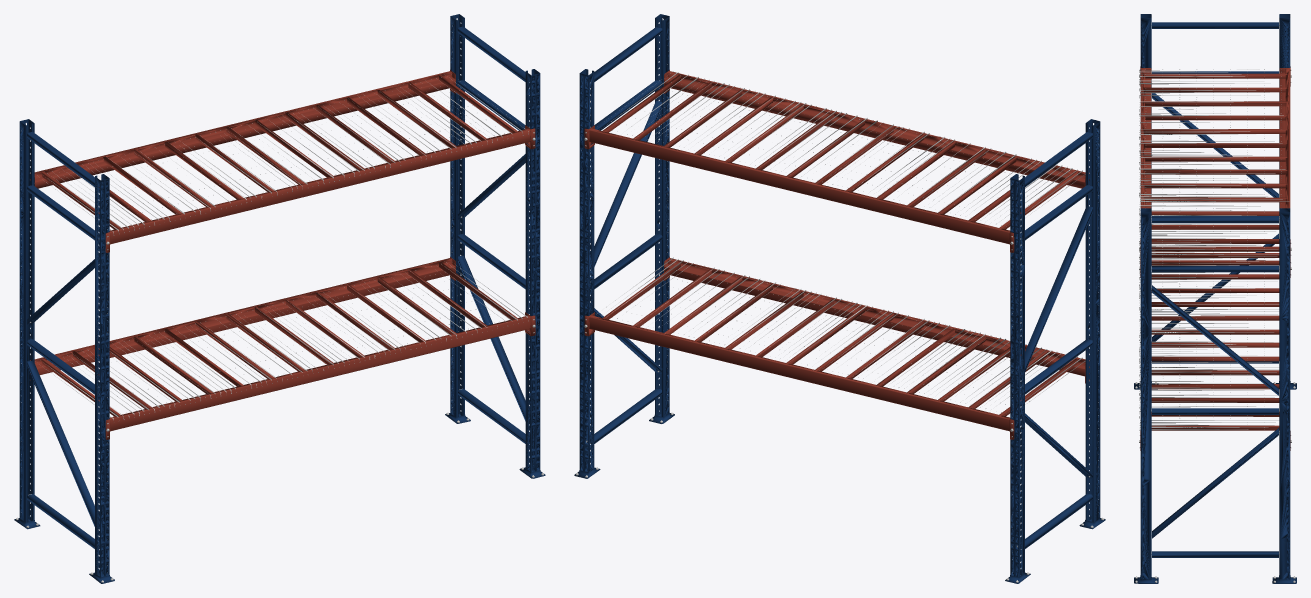
Rendered from rack_pallet.glb.
3 renders of one model, left to right at view 1: azimuth 30°, elevation 25°; view 2: azimuth 150°, elevation 25°; view 3: azimuth 270°, elevation 25°, orthographic. The views are drawn at different scales.
Parts seen in each view (by area): view 1: sm_rack_h3m_s01_mesh_00; view 2: sm_rack_h3m_s01_mesh_00; view 3: sm_rack_h3m_s01_mesh_00.
Part boxes in pixels (x1,y1,x2,y2): sm_rack_h3m_s01_mesh_00: (14,14,545,583); sm_rack_h3m_s01_mesh_00: (574,14,1105,583); sm_rack_h3m_s01_mesh_00: (1134,14,1296,583).
Bounding box in the file's own units: 3.49 × 3 × 1.19.
